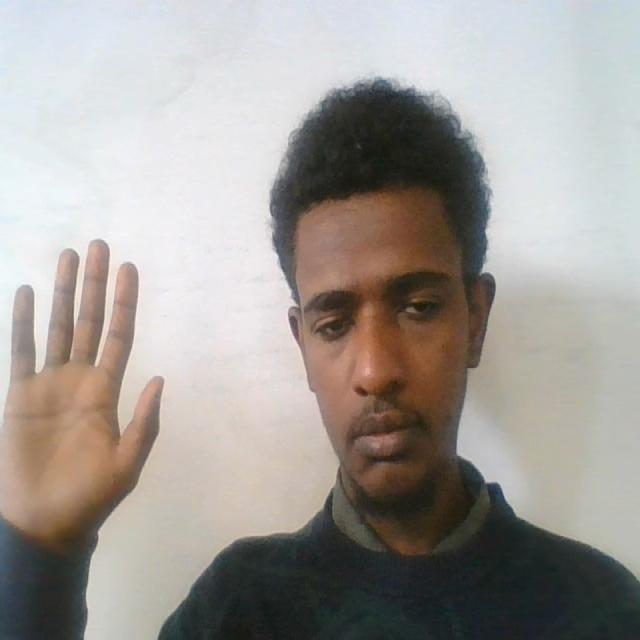hello: (11, 221, 171, 534)
